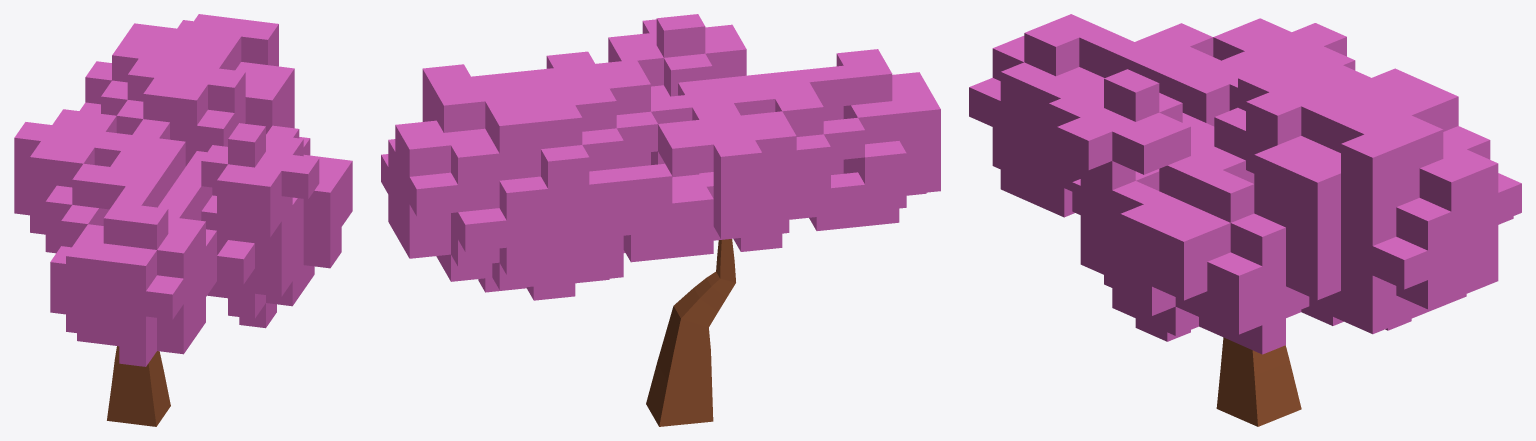
File: sakura 5.fbx
3 renders of one model, left to right at view 1: azimuth 30°, elevation 25°; view 2: azimuth 150°, elevation 25°; view 3: azimuth 270°, elevation 25°, orthographic. The views are drawn at different scales.
Visible parts, largest first — view 1: Sakura.004; view 2: Sakura.004; view 3: Sakura.004.
Boxes of the visible parts, x1,y1,x2,y2 form: Sakura.004: (14, 14, 352, 426); Sakura.004: (381, 14, 940, 426); Sakura.004: (969, 14, 1521, 426).
Bounding box in the file's own units: 3040 × 2412 × 3368.
